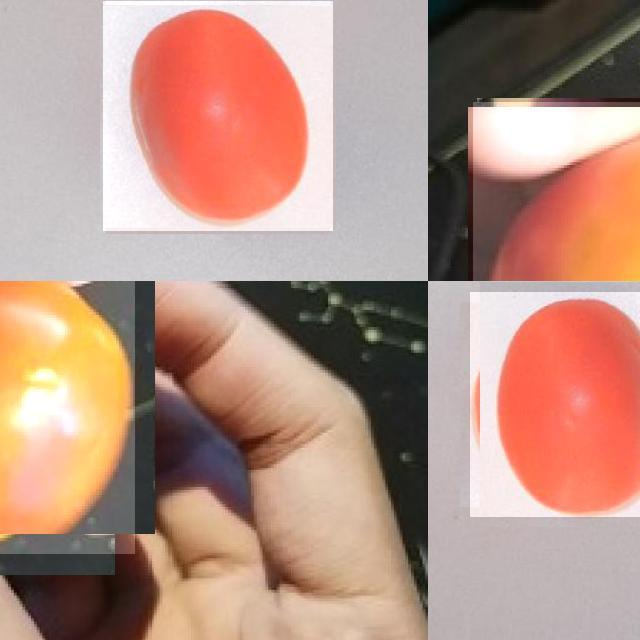Fresh Tomato: (104, 1, 334, 231), (470, 291, 640, 517), (0, 281, 135, 554), (472, 102, 640, 281)
